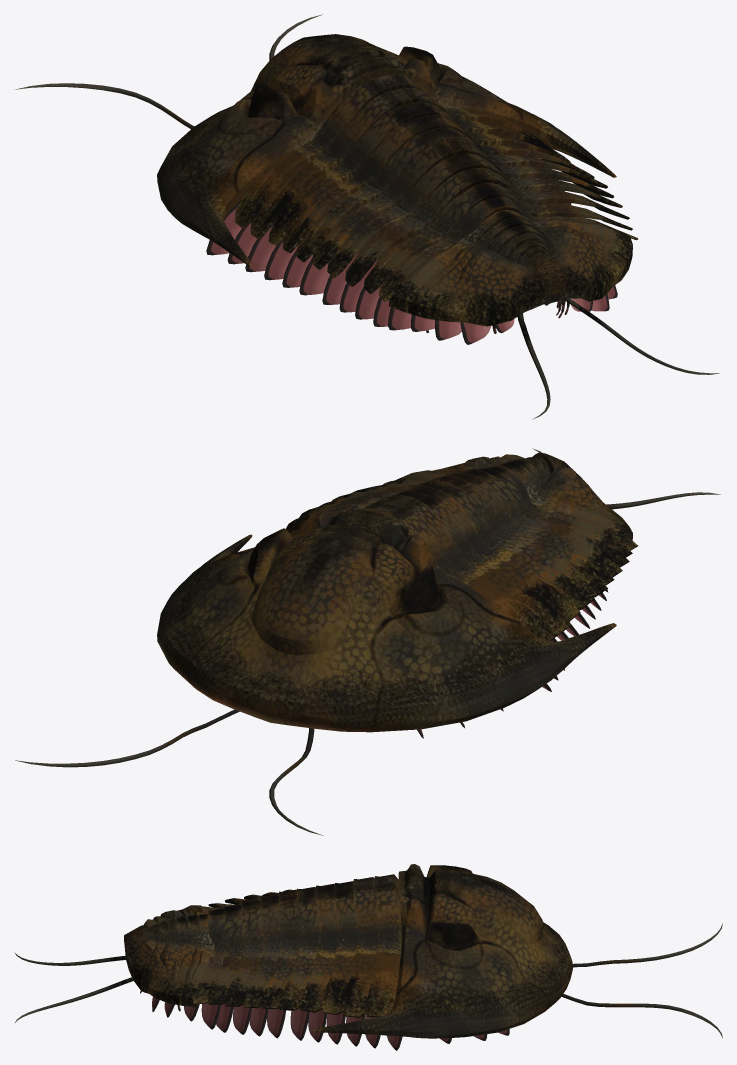
File: trilobite_proetida.glb
3 views of the same model, one above another, from view 1: azimuth 30°, elevation 25°; view 2: azimuth 150°, elevation 25°; view 3: azimuth 270°, elevation 25° (orthographic). The views are drawn at different scales.
Parts seen in each view (by area): view 1: Object_5, Object_3, Object_2, Object_7, Object_6, Object_4, Object_8; view 2: Object_3, Object_5, Object_2, Object_4; view 3: Object_3, Object_5, Object_2, Object_7, Object_4, Object_8, Object_6.
Part boxes in pixels (<box>): Object_5: <box>235,74,638,301</box>; Object_3: <box>157,34,616,266</box>; Object_2: <box>389,209,632,326</box>; Object_7: <box>206,138,571,312</box>; Object_6: <box>227,191,617,344</box>; Object_4: <box>15,14,719,419</box>; Object_8: <box>355,283,565,333</box>; Object_3: <box>157,508,616,732</box>; Object_5: <box>286,465,637,641</box>; Object_2: <box>395,452,632,540</box>; Object_4: <box>15,448,720,835</box>; Object_3: <box>314,864,573,1038</box>; Object_5: <box>192,874,401,1017</box>; Object_2: <box>124,905,215,1007</box>; Object_7: <box>233,1004,402,1050</box>; Object_4: <box>14,923,722,1038</box>; Object_8: <box>184,1002,380,1048</box>; Object_6: <box>140,991,509,1046</box>.
Size of the model in its own units: 1.1 by 0.485 by 2.36.
Materials: 5 (5 with a texture image).
